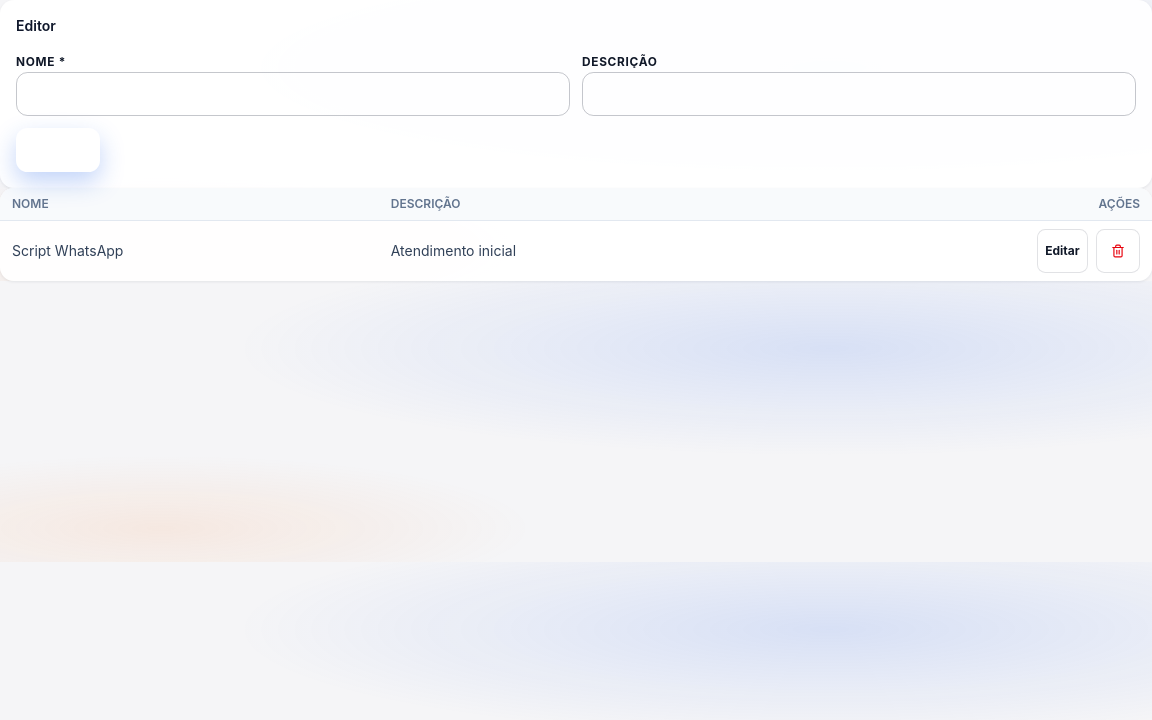
Test: CRMSimpleCrud › opens row actions from desktop right-click and reuses edit flow
expect the text "Script WhatsApp" is shown: met, box [12,242,124,259]
Right-click the text "Script WhatsApp" at {"x": 68, "y": 250}, box [0,220,1151,281]
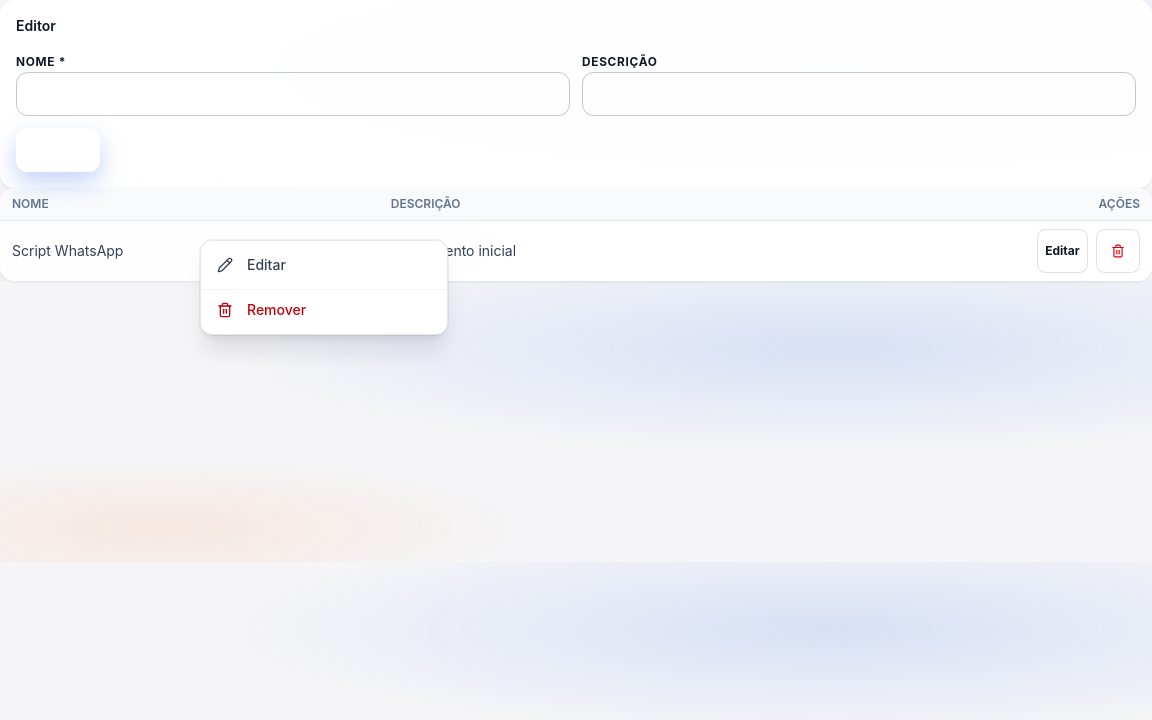
expect the menu named "Ações de Script WhatsApp" is shown: met, box [200,240,448,335]
expect the menu item "Remover" is shown: met, box [201,289,447,330]
Click the menu item "Editar" at {"x": 324, "y": 265}, box [201,245,447,285]
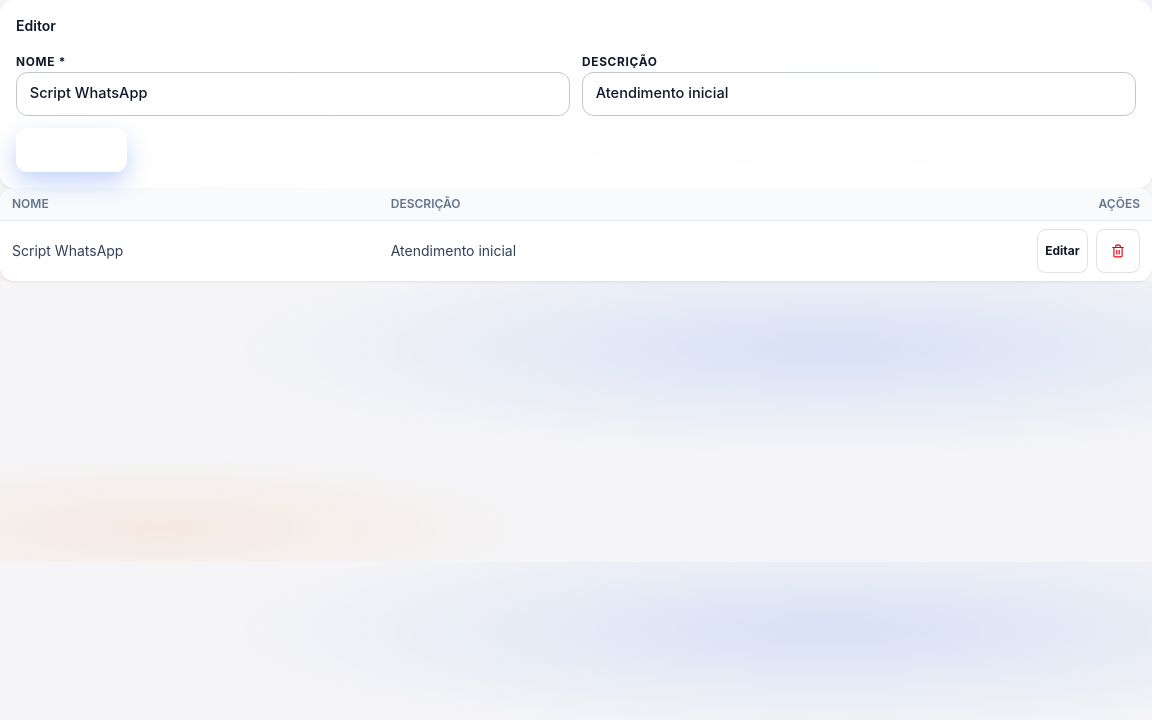
expect the field showing "Script WhatsApp" is shown: met, box [16,72,570,116]
expect the button "Atualizar" is shown: met, box [16,128,127,172]
